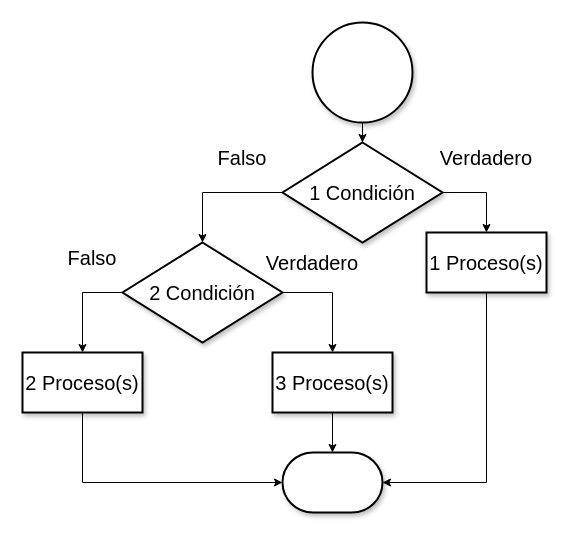
This 570x537 diagram has some shape labels left out. The centre of each missing label's shape, as x and y in pixels:
FIN: the point at 333,483
Inicio: the point at 363,73
